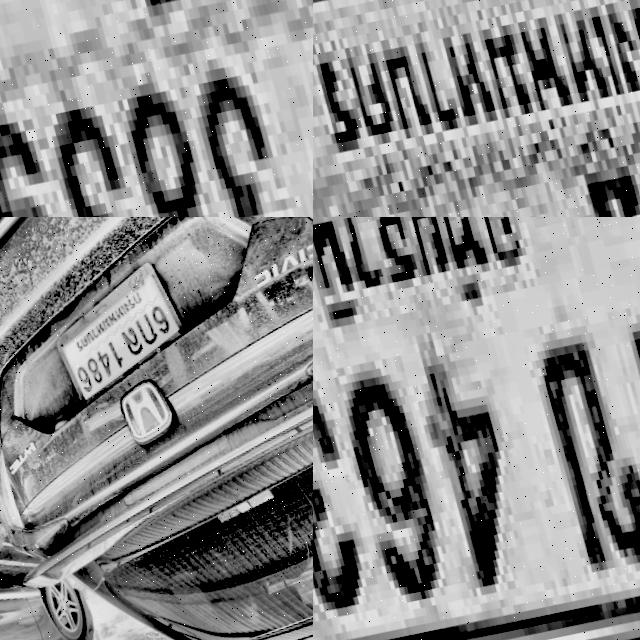license-plate: (313, 217, 640, 640), (313, 0, 640, 217), (0, 0, 313, 217), (33, 253, 198, 410)
